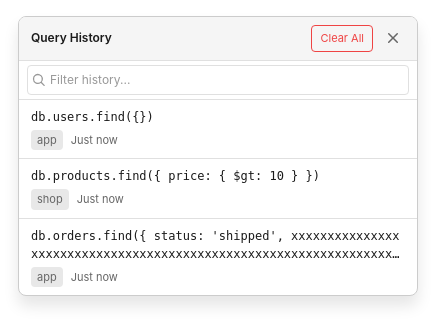
Test: QueryHistory › filter › shows "No matching queries" when nothing matches
The width and height of the screenshot is (437, 325).
In the field labelled "Filter history": (227, 80) [50,66,404,94], type "nothing-here"
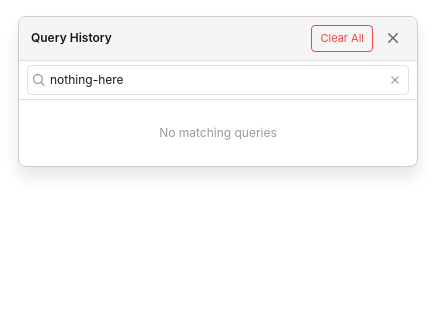
expect the text "No matching queries" is shown: met, box [159,124,277,140]
